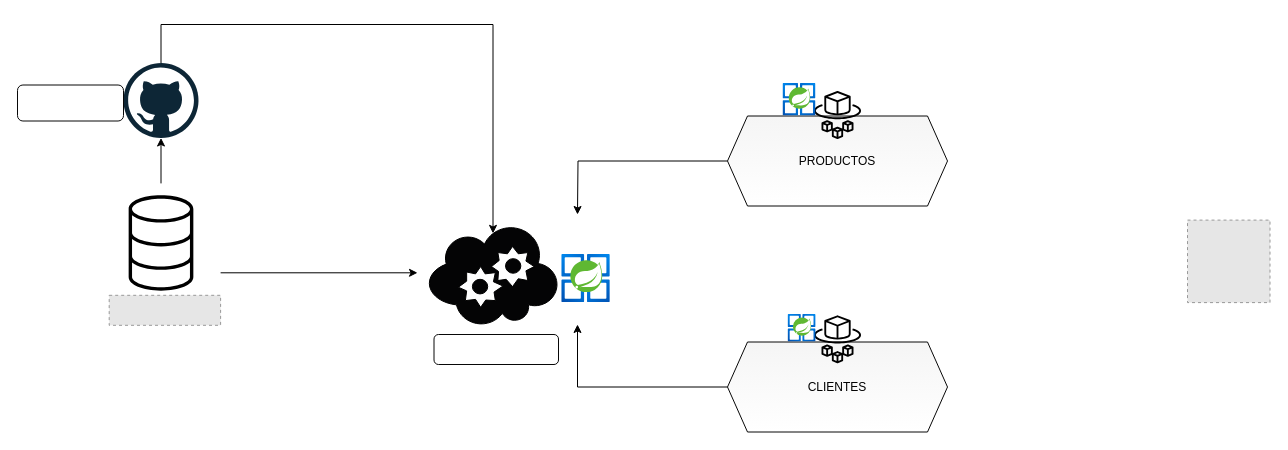
This 1288x450 diagram has some shape labels left out. Grey dashed boxes stand in for pictures. Here are the shapes that lost their labels. From the top down, the box of each, then its label:
(16, 84, 124, 121): CONFIG- DATA
(433, 334, 558, 364): CONFIG- SERVER
